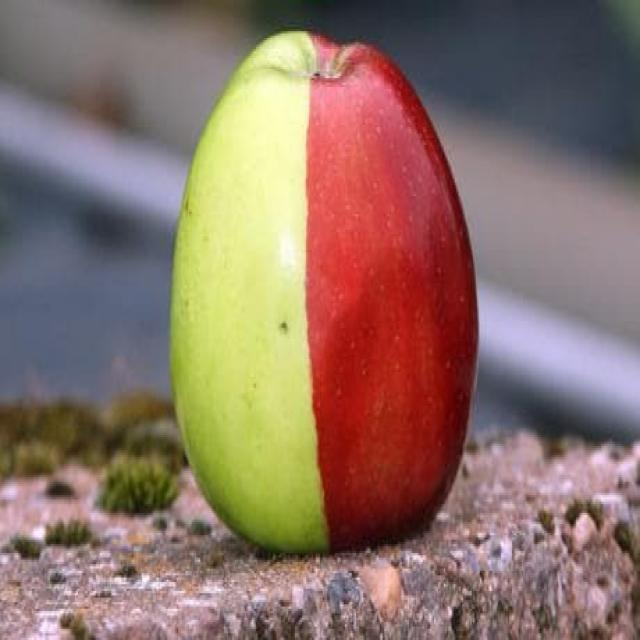Green Apple: (225, 83, 292, 512)
Red Apple: (340, 112, 455, 423)
